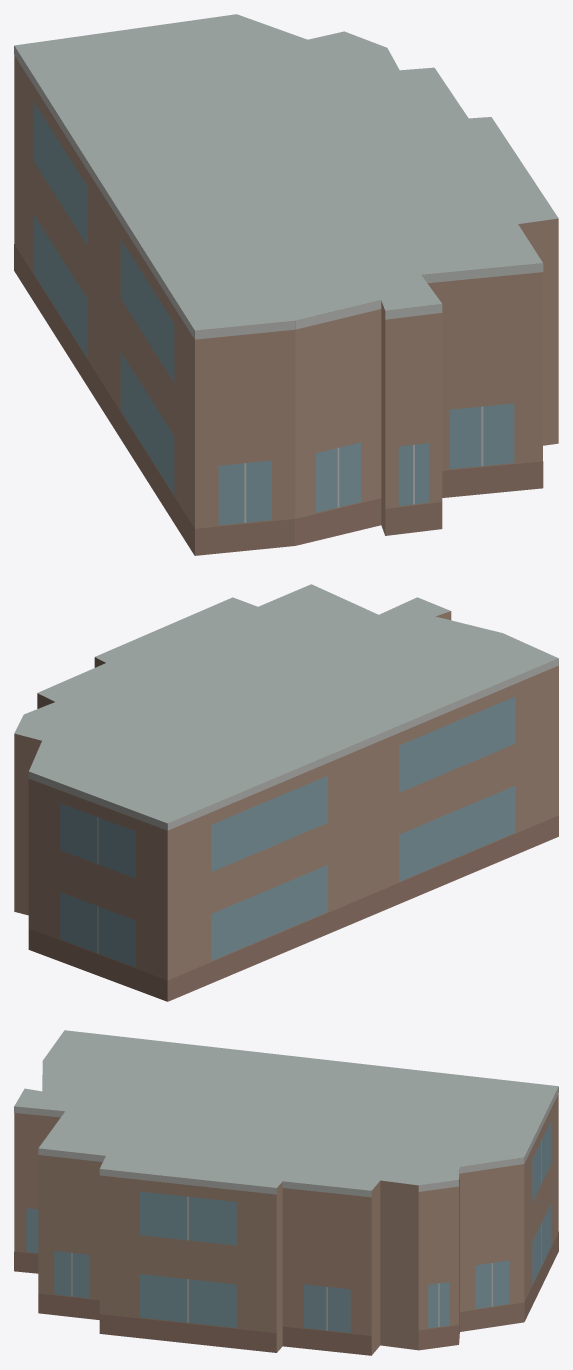
File: survey-upis-32985067.glb
The picture shows the model from 3 angles, top to bottom: view 1: azimuth 30°, elevation 25°; view 2: azimuth 150°, elevation 25°; view 3: azimuth 270°, elevation 25°; orthographic projection. The views are drawn at different scales.
Parts seen in each view (by area): view 1: survey-upis-32985067.tmp; view 2: survey-upis-32985067.tmp; view 3: survey-upis-32985067.tmp.
Boxes of the visible parts, x1,y1,x2,y2 form: survey-upis-32985067.tmp: [14, 14, 558, 555]; survey-upis-32985067.tmp: [14, 584, 558, 1001]; survey-upis-32985067.tmp: [14, 1030, 558, 1355].
Size of the model in its own units: 12.75 by 6.1 by 18.27.
